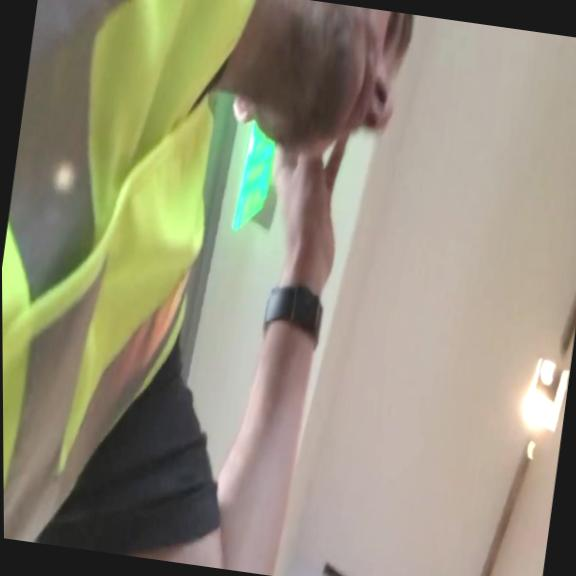safety_vest: (0, 0, 262, 563)
